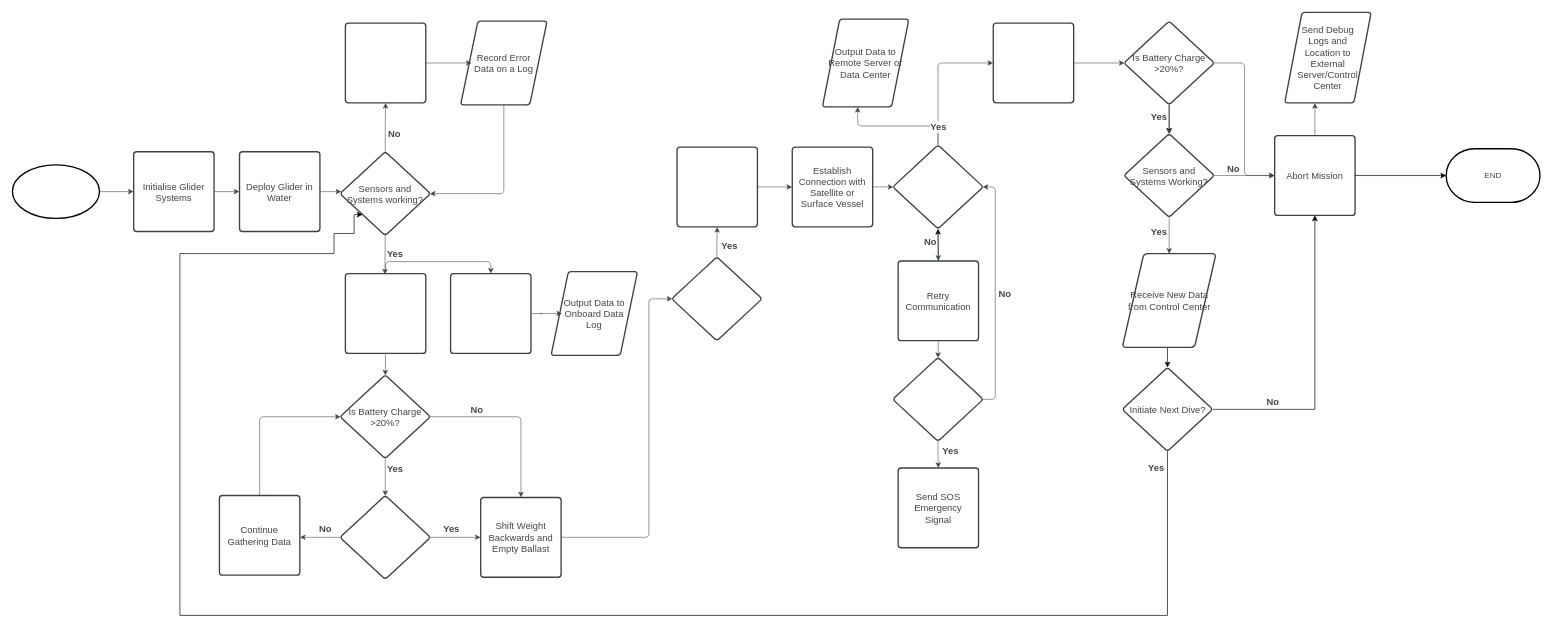
This 1552x632 diagram has some shape labels left out. Each missing label, with the centre of its shape:
"Activate Sensors" goes at (490,313).
"Flash LED to Alert of Issue" goes at (385,62).
"Is Connection Stable?" goes at (938,186).
"Is Depth >600m?" goes at (385,537).
"No. of Retry Attempts >10?" goes at (938,399).
"Sensors detect surface?" goes at (716,298).
"Shift Weight Forwards and Fill Ballast with Water" goes at (385,313).
"Shift Weight Forwards to Pitch Tail Up" goes at (717,186).
"START" goes at (55,191).
"Stop Sensor Data Gathering" goes at (1033,62).
